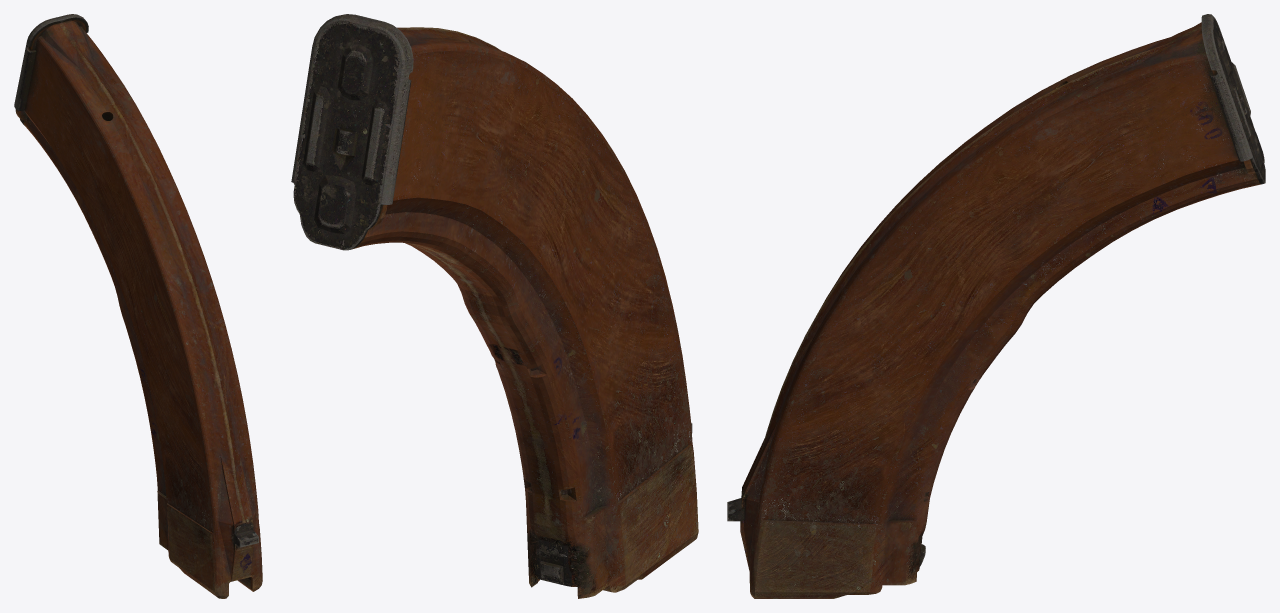
3 views of the same model, side by side, from view 1: azimuth 30°, elevation 25°; view 2: azimuth 150°, elevation 25°; view 3: azimuth 270°, elevation 25° (orthographic). The views are drawn at different scales.
Parts seen in each view (by area): view 1: TW_5b1fb3e15acfc4001637f068_PZ_Import; view 2: TW_5b1fb3e15acfc4001637f068_PZ_Import; view 3: TW_5b1fb3e15acfc4001637f068_PZ_Import.
Boxes of the visible parts, x1,y1,x2,y2 form: TW_5b1fb3e15acfc4001637f068_PZ_Import: [14, 14, 262, 598]; TW_5b1fb3e15acfc4001637f068_PZ_Import: [291, 14, 698, 598]; TW_5b1fb3e15acfc4001637f068_PZ_Import: [727, 14, 1265, 598].
Size of the model in its own units: 0.0182 by 0.1129 by 0.131.
1 material, 1 textured.
